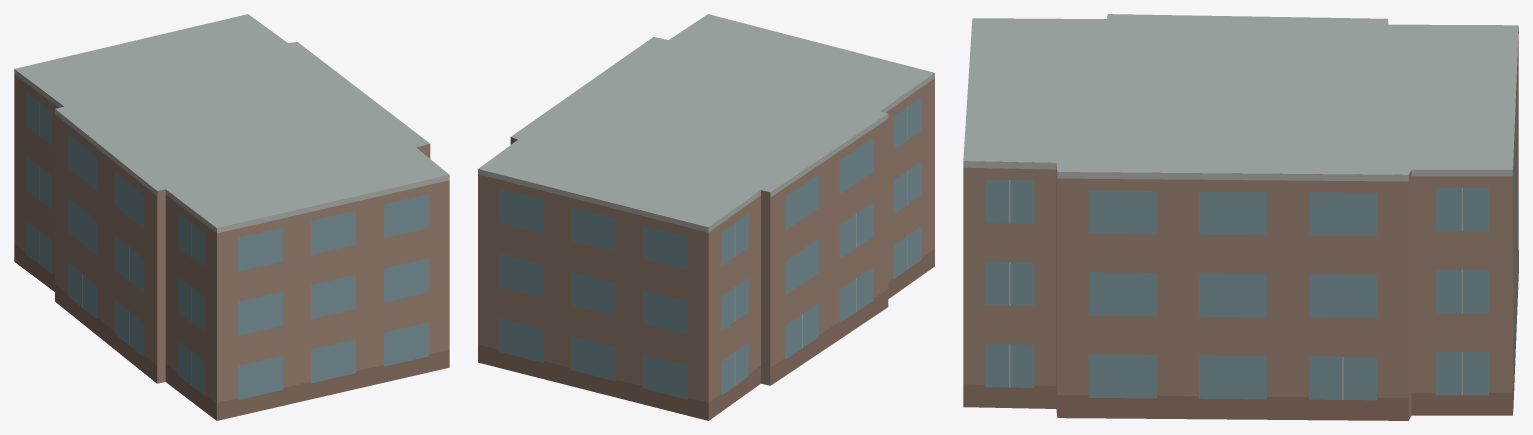
File: survey-upis-32760660.glb
3 views of the same model, side by side, from view 1: azimuth 30°, elevation 25°; view 2: azimuth 150°, elevation 25°; view 3: azimuth 270°, elevation 25° (orthographic). The views are drawn at different scales.
Parts seen in each view (by area): view 1: survey-upis-32760660.tmp; view 2: survey-upis-32760660.tmp; view 3: survey-upis-32760660.tmp.
Part boxes in pixels (<box>): survey-upis-32760660.tmp: <box>14,14,449,420</box>; survey-upis-32760660.tmp: <box>478,14,934,420</box>; survey-upis-32760660.tmp: <box>963,14,1518,420</box>.
Bounding box in the file's own units: 12.63 × 9 × 18.43.
